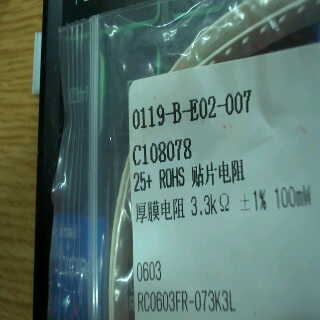3.3kO: (186, 189, 233, 219)
